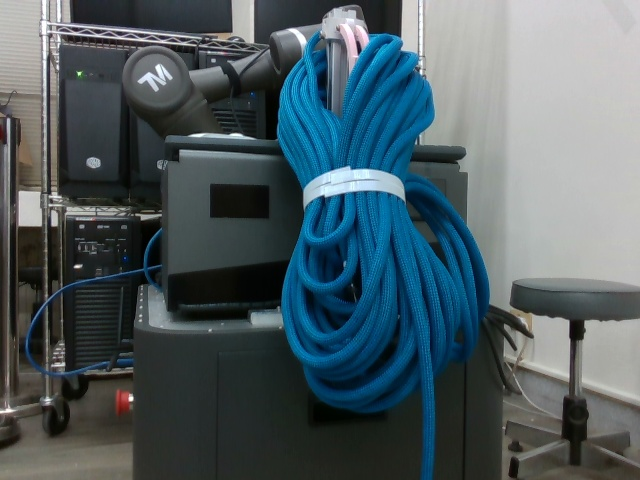rope: (274, 25, 493, 418)
